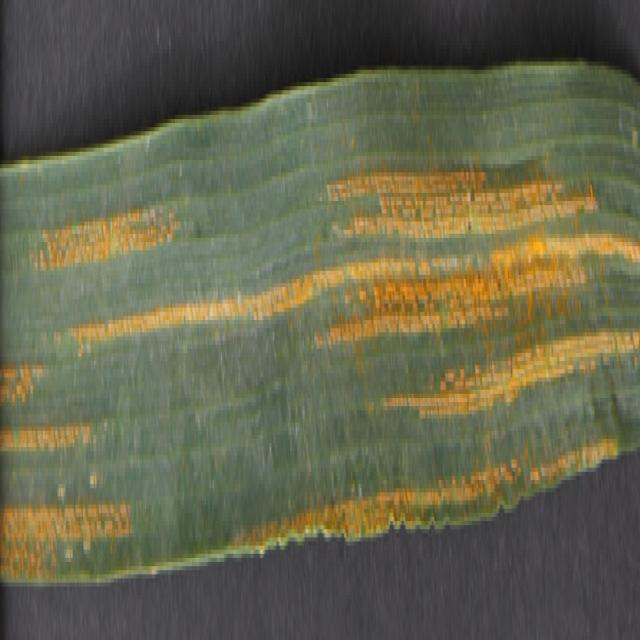leaf rust: (1, 131, 640, 595)
